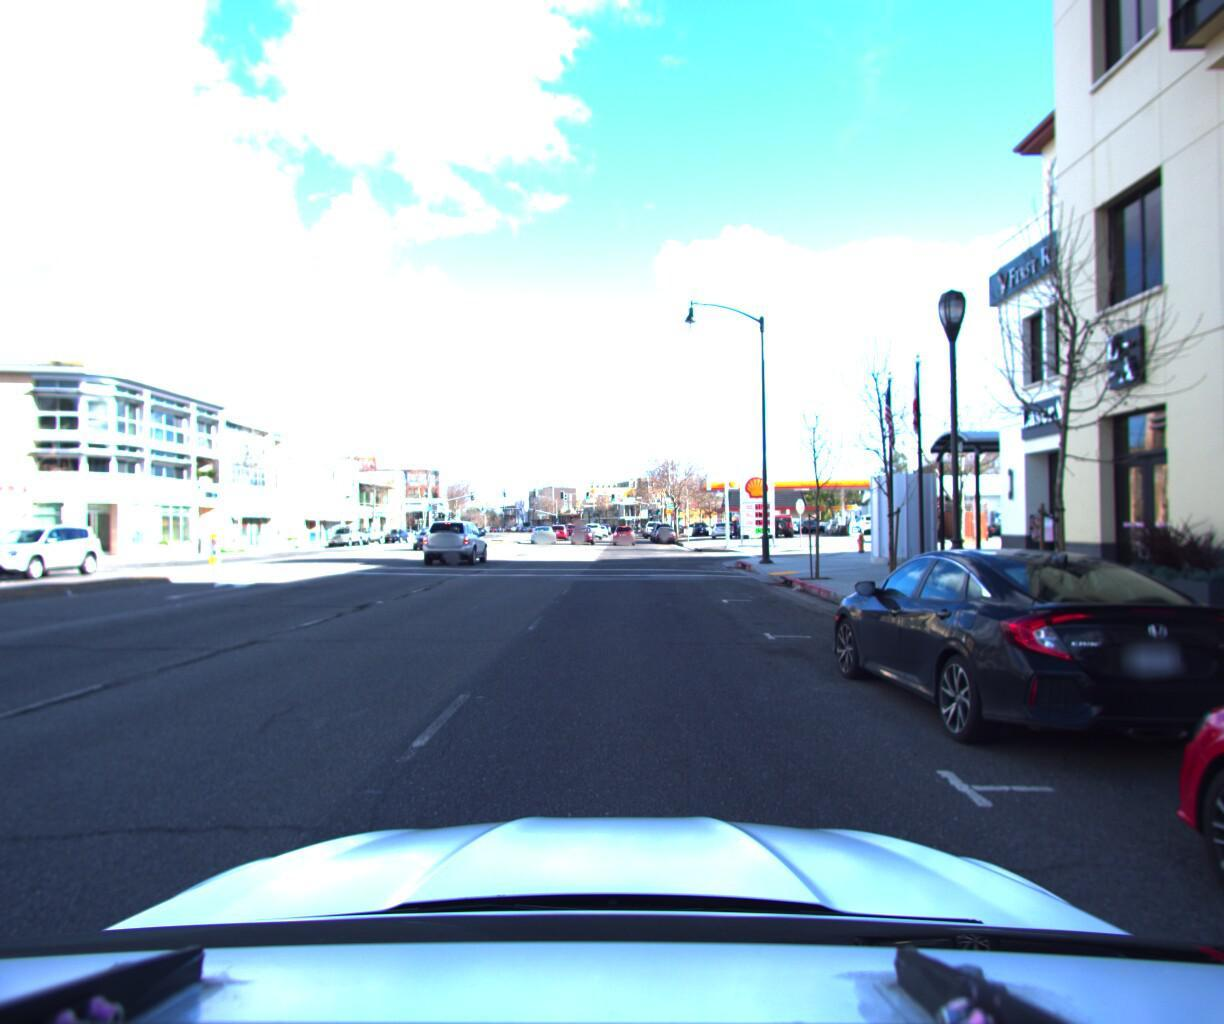car: (817, 533, 1224, 788), (0, 524, 114, 584), (423, 518, 492, 570), (327, 523, 371, 549), (414, 525, 452, 552), (762, 513, 796, 538), (851, 513, 885, 534), (532, 526, 558, 546), (615, 525, 638, 546), (575, 525, 599, 546), (655, 526, 679, 545), (711, 521, 735, 540), (554, 526, 574, 543), (589, 524, 607, 540)
